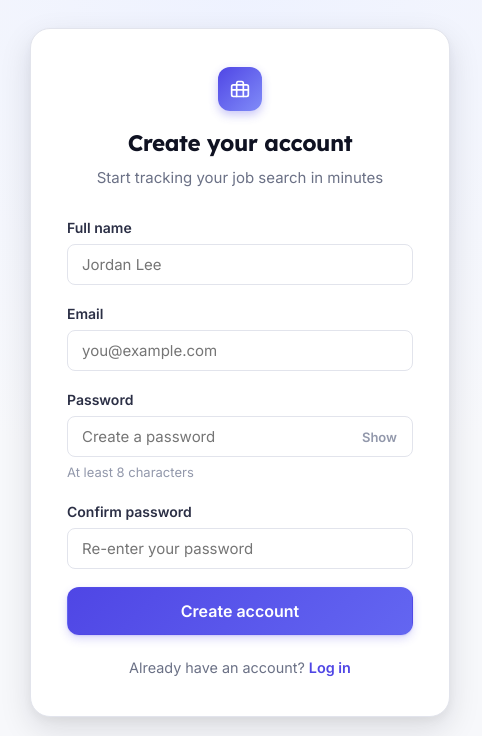
Register form validation › shows validation errors when required fields are missing
What coordinates should you click on to do the following:
click the button "Create account"
I would click on:
 (240, 611)
Its box is [67, 587, 413, 635].
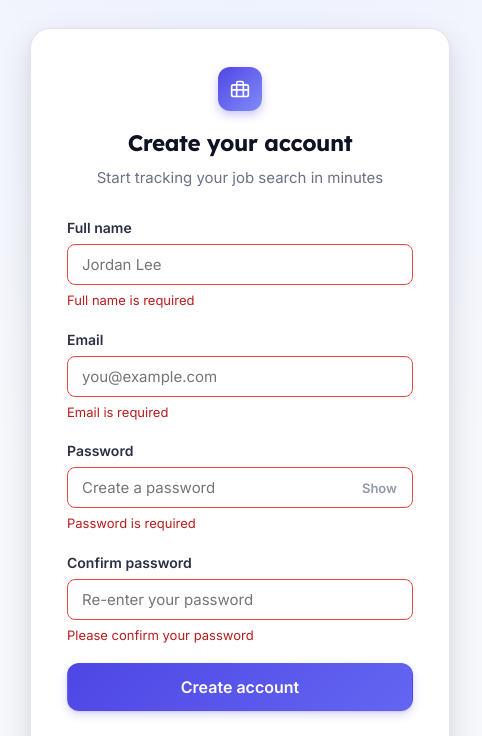
Now the text "Full name is required" is shown, box [67, 292, 194, 308]
Now the text "Email is required" is shown, box [67, 404, 168, 420]
Now the text "Password is required" is shown, box [67, 515, 196, 531]
